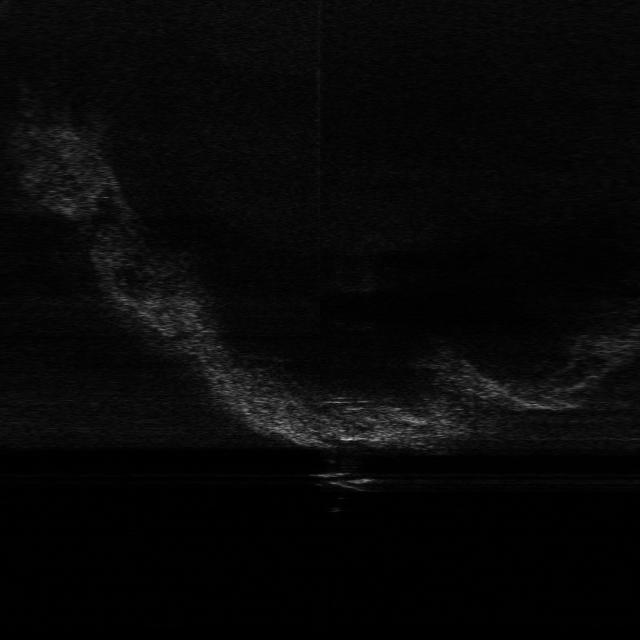plane: (307, 468, 382, 496)
